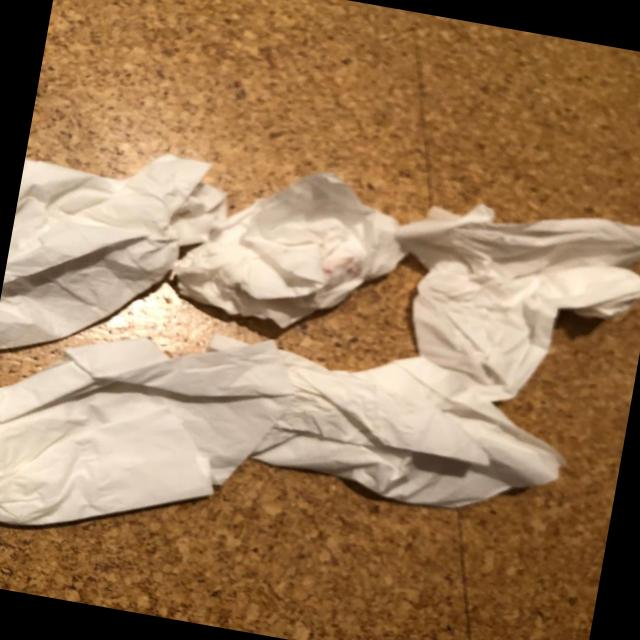organic waste: (0, 283, 581, 621), (363, 182, 640, 425), (0, 122, 245, 390), (176, 153, 420, 350)
